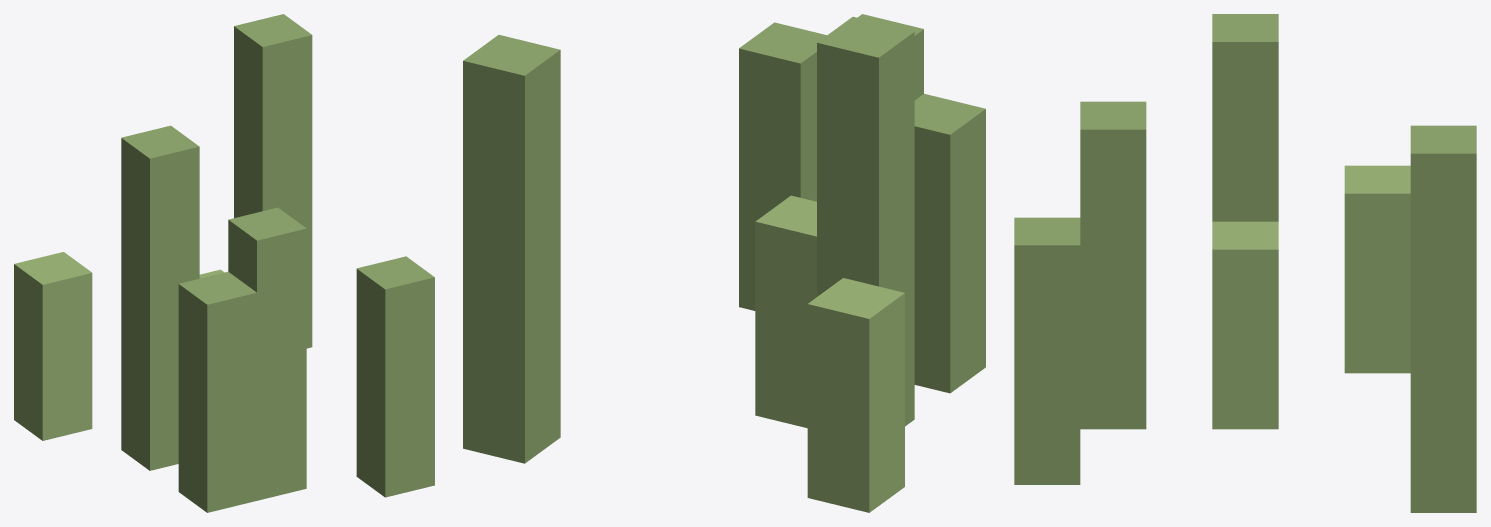
File: hierba_alta_05.glb
The picture shows the model from 3 angles, left to right: view 1: azimuth 30°, elevation 25°; view 2: azimuth 150°, elevation 25°; view 3: azimuth 270°, elevation 25°; orthographic projection. The views are drawn at different scales.
Visible parts, largest first — view 1: hierba_alta_05; view 2: hierba_alta_05; view 3: hierba_alta_05.
Part boxes in pixels (x1=…): hierba_alta_05: x1=14, y1=14, x2=434, y2=512; hierba_alta_05: x1=463, y1=14, x2=985, y2=512; hierba_alta_05: x1=1014, y1=14, x2=1476, y2=512.
Size of the model in its own units: 0.6 by 0.6 by 0.7.
